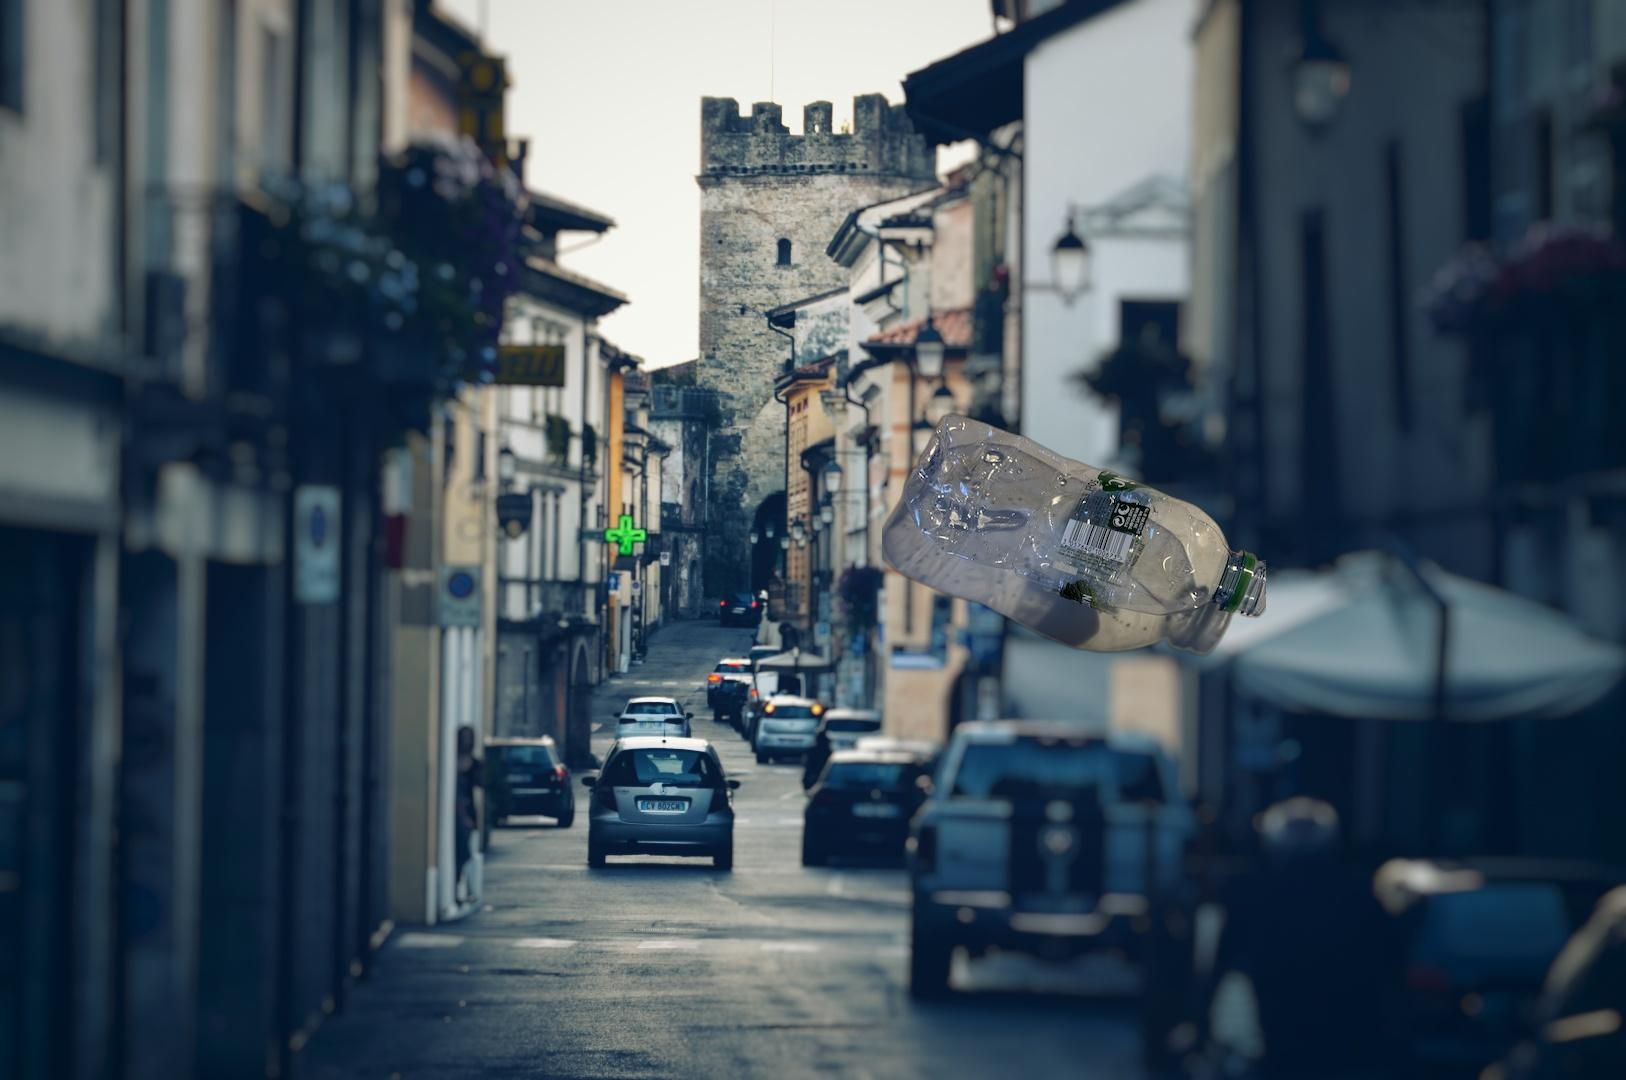plastic-bottles: (882, 339, 1266, 659)
